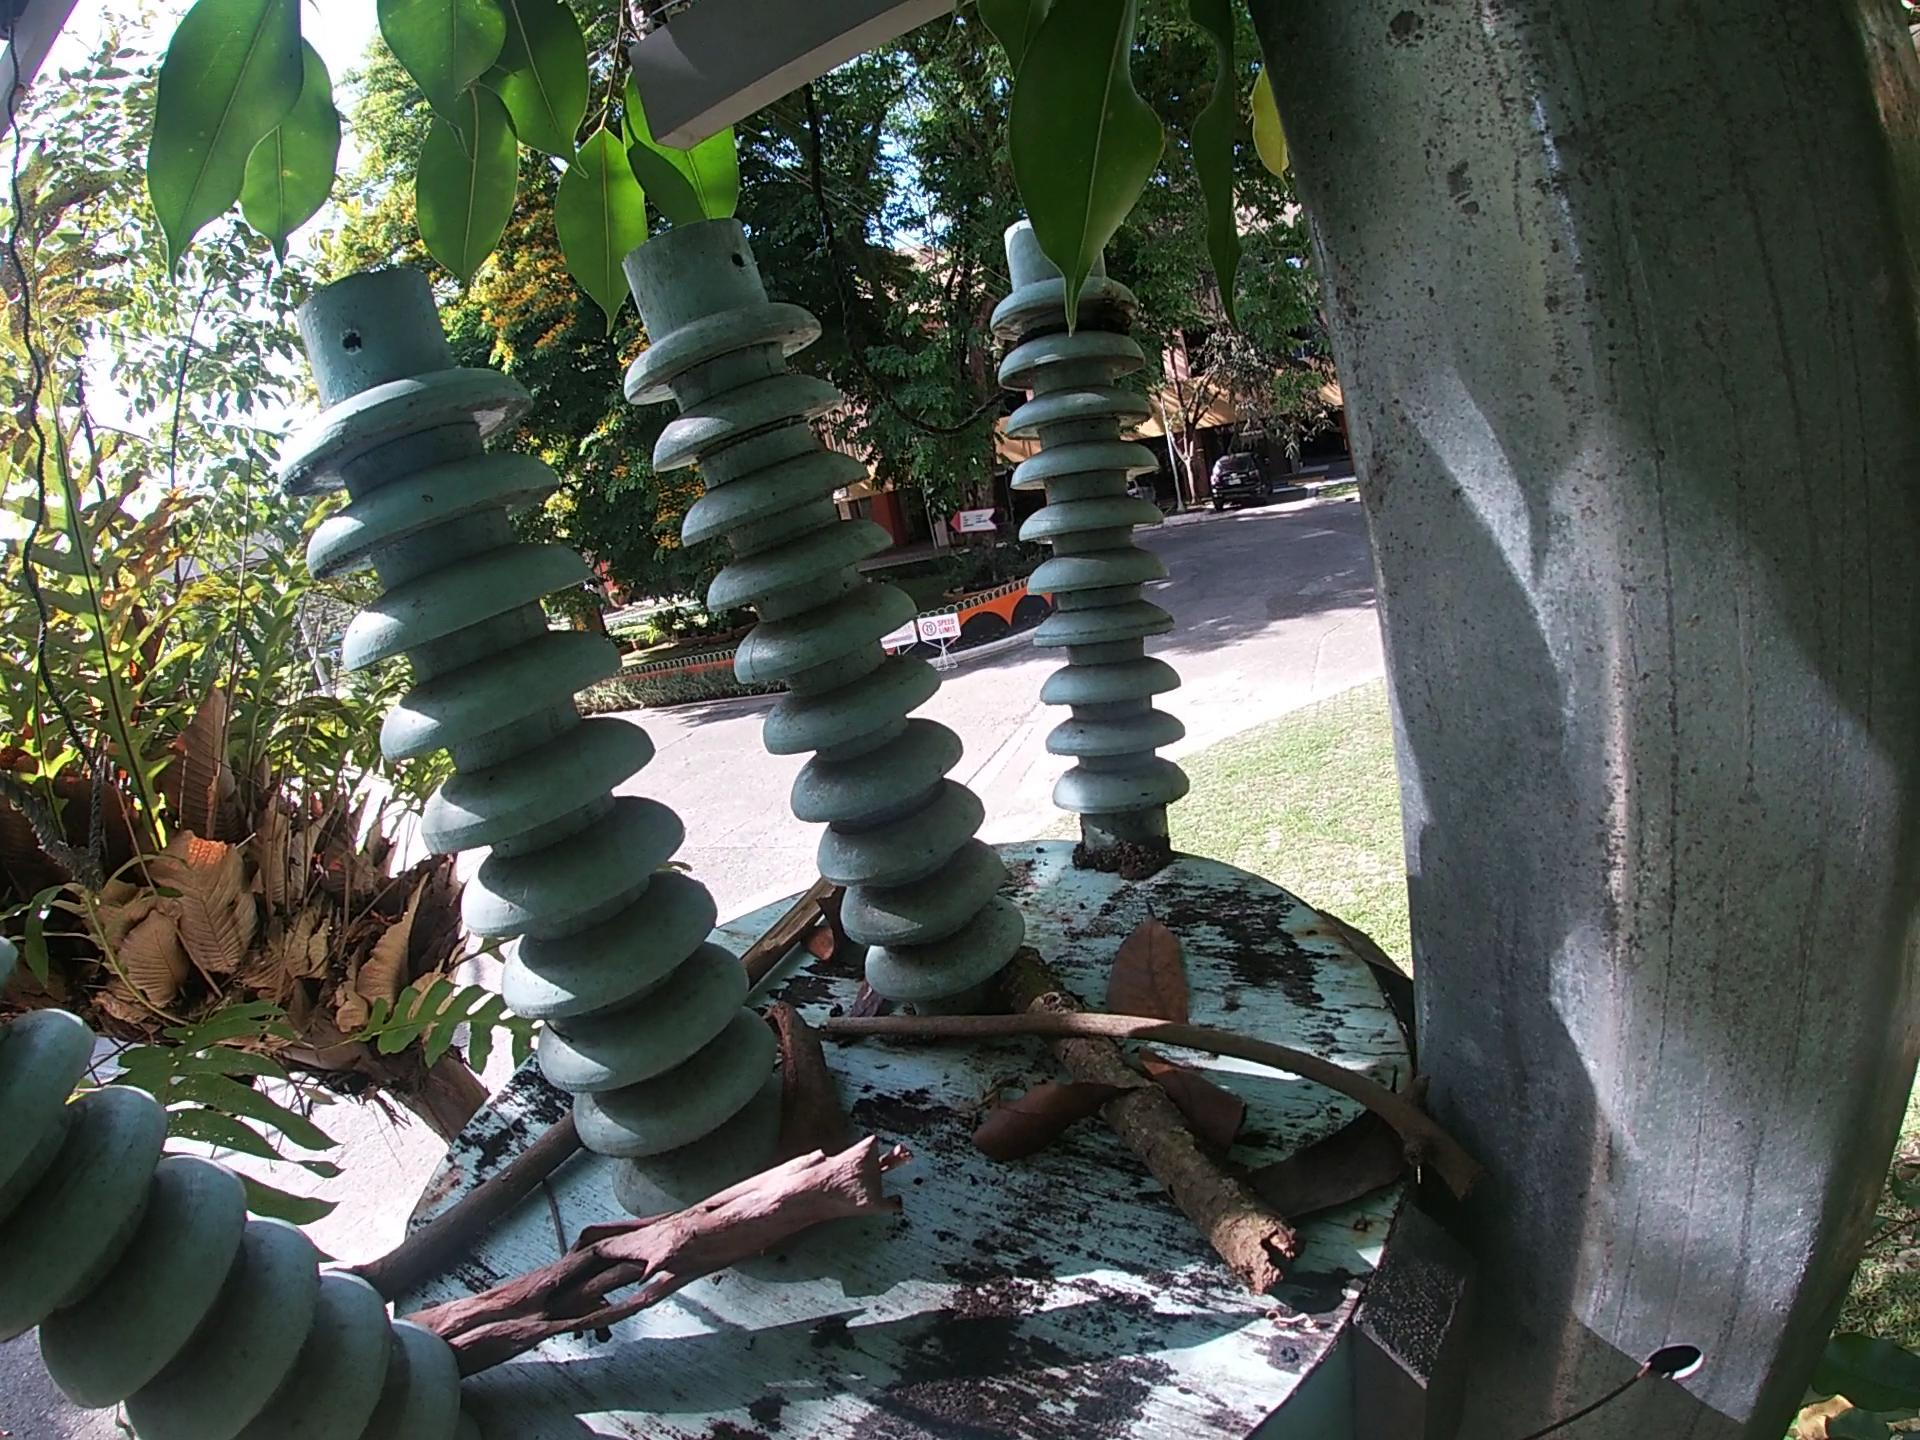leaf: (1241, 1072, 1438, 1227), (962, 1075, 1146, 1172), (1137, 1041, 1259, 1162), (1104, 898, 1200, 1030)
mahogany fruit: (765, 995, 835, 1168), (798, 883, 856, 964)
tree branch: (819, 998, 1506, 1210), (398, 1136, 921, 1384), (989, 938, 1306, 1302), (333, 1116, 594, 1295), (735, 867, 845, 1001)
